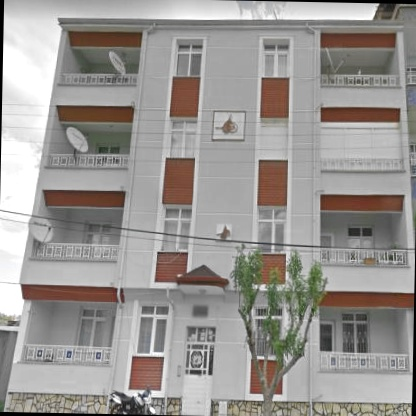door: (181, 327, 216, 415)
